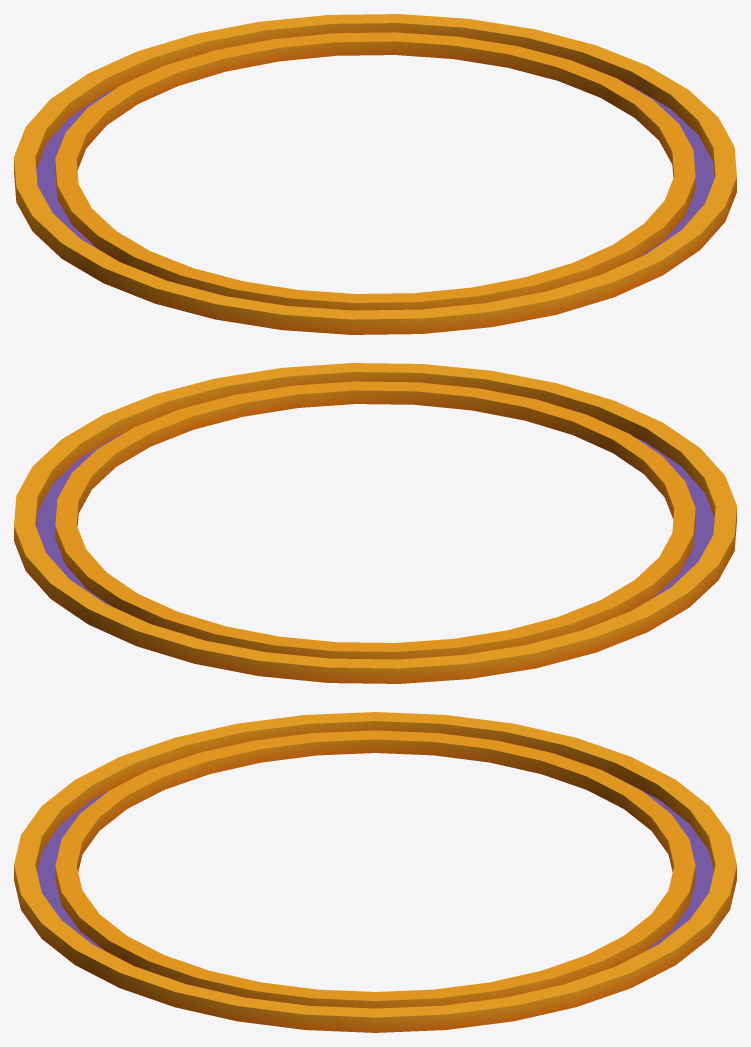
The picture shows the model from 3 angles, top to bottom: view 1: azimuth 30°, elevation 25°; view 2: azimuth 150°, elevation 25°; view 3: azimuth 270°, elevation 25°; orthographic projection.
Visible parts, largest first — view 1: Obstacle_Gound_Socket_04_v02; view 2: Obstacle_Gound_Socket_04_v02; view 3: Obstacle_Gound_Socket_04_v02.
Boxes of the visible parts, box(x1,y1,x2,y2) form: Obstacle_Gound_Socket_04_v02: box(14, 14, 736, 334); Obstacle_Gound_Socket_04_v02: box(14, 363, 736, 683); Obstacle_Gound_Socket_04_v02: box(14, 712, 736, 1032).
Size of the model in its own units: 2.13 by 0.05 by 2.13.
1 material, 1 textured.
